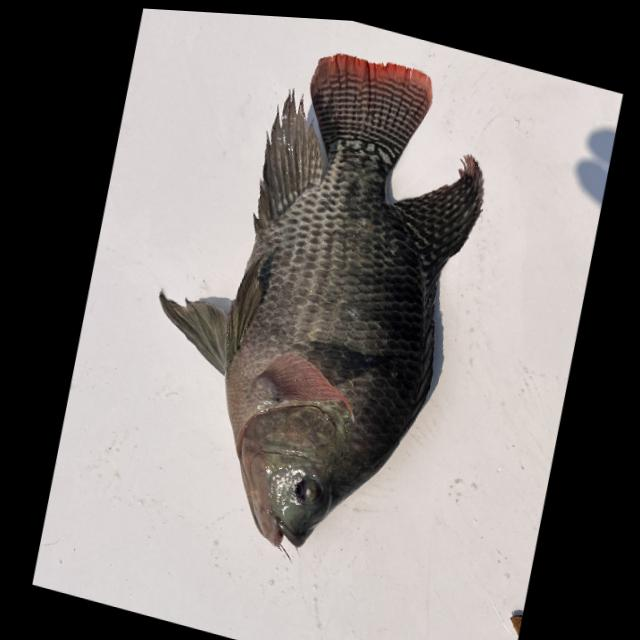Tilapia: (104, 7, 516, 593)
